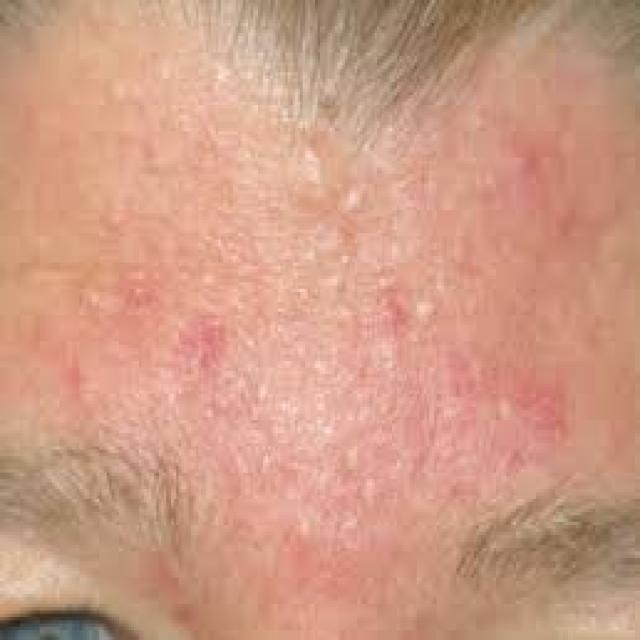Rosacea: (40, 87, 589, 594)
